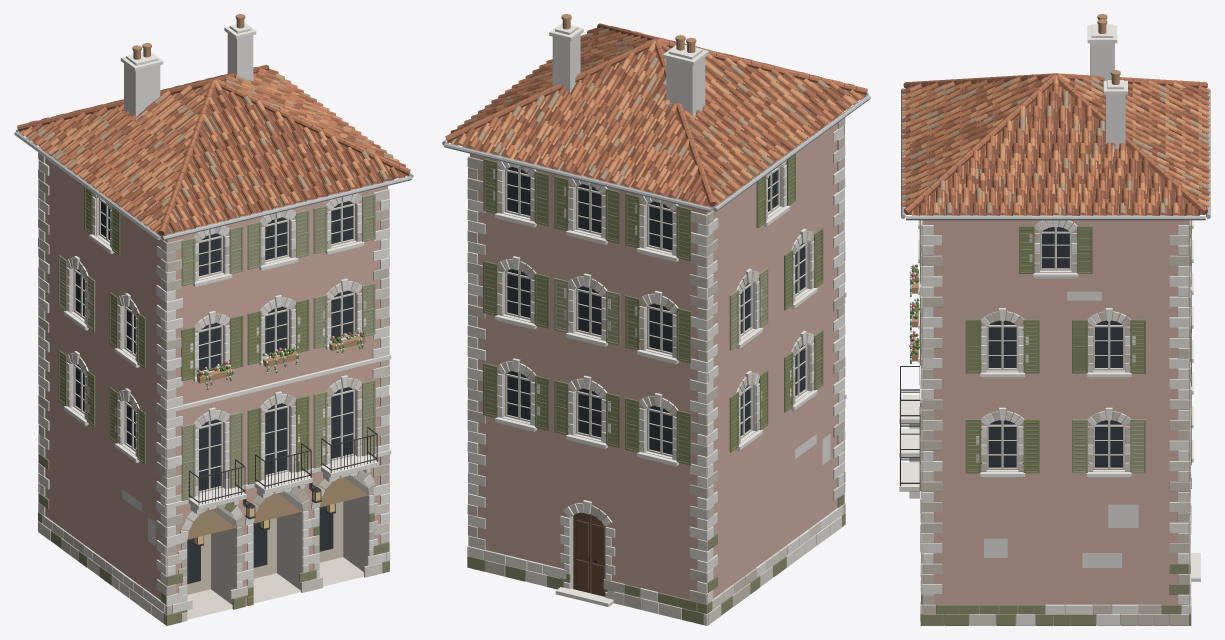
File: Townhouse.fbx
3 renders of one model, left to right at view 1: azimuth 30°, elevation 25°; view 2: azimuth 150°, elevation 25°; view 3: azimuth 270°, elevation 25°, orthographic. The views are drawn at different scales.
Parts seen in each view (by area): view 1: Townhouse; view 2: Townhouse; view 3: Townhouse.
Part boxes in pixels (x1=…): Townhouse: x1=14, y1=14, x2=413, y2=625; Townhouse: x1=442, y1=14, x2=870, y2=625; Townhouse: x1=899, y1=14, x2=1210, y2=625.
Size of the model in its own units: 9.3 by 17.39 by 9.35.
